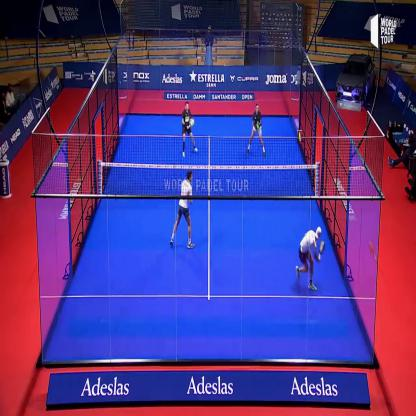ball: (298, 130, 304, 145)
